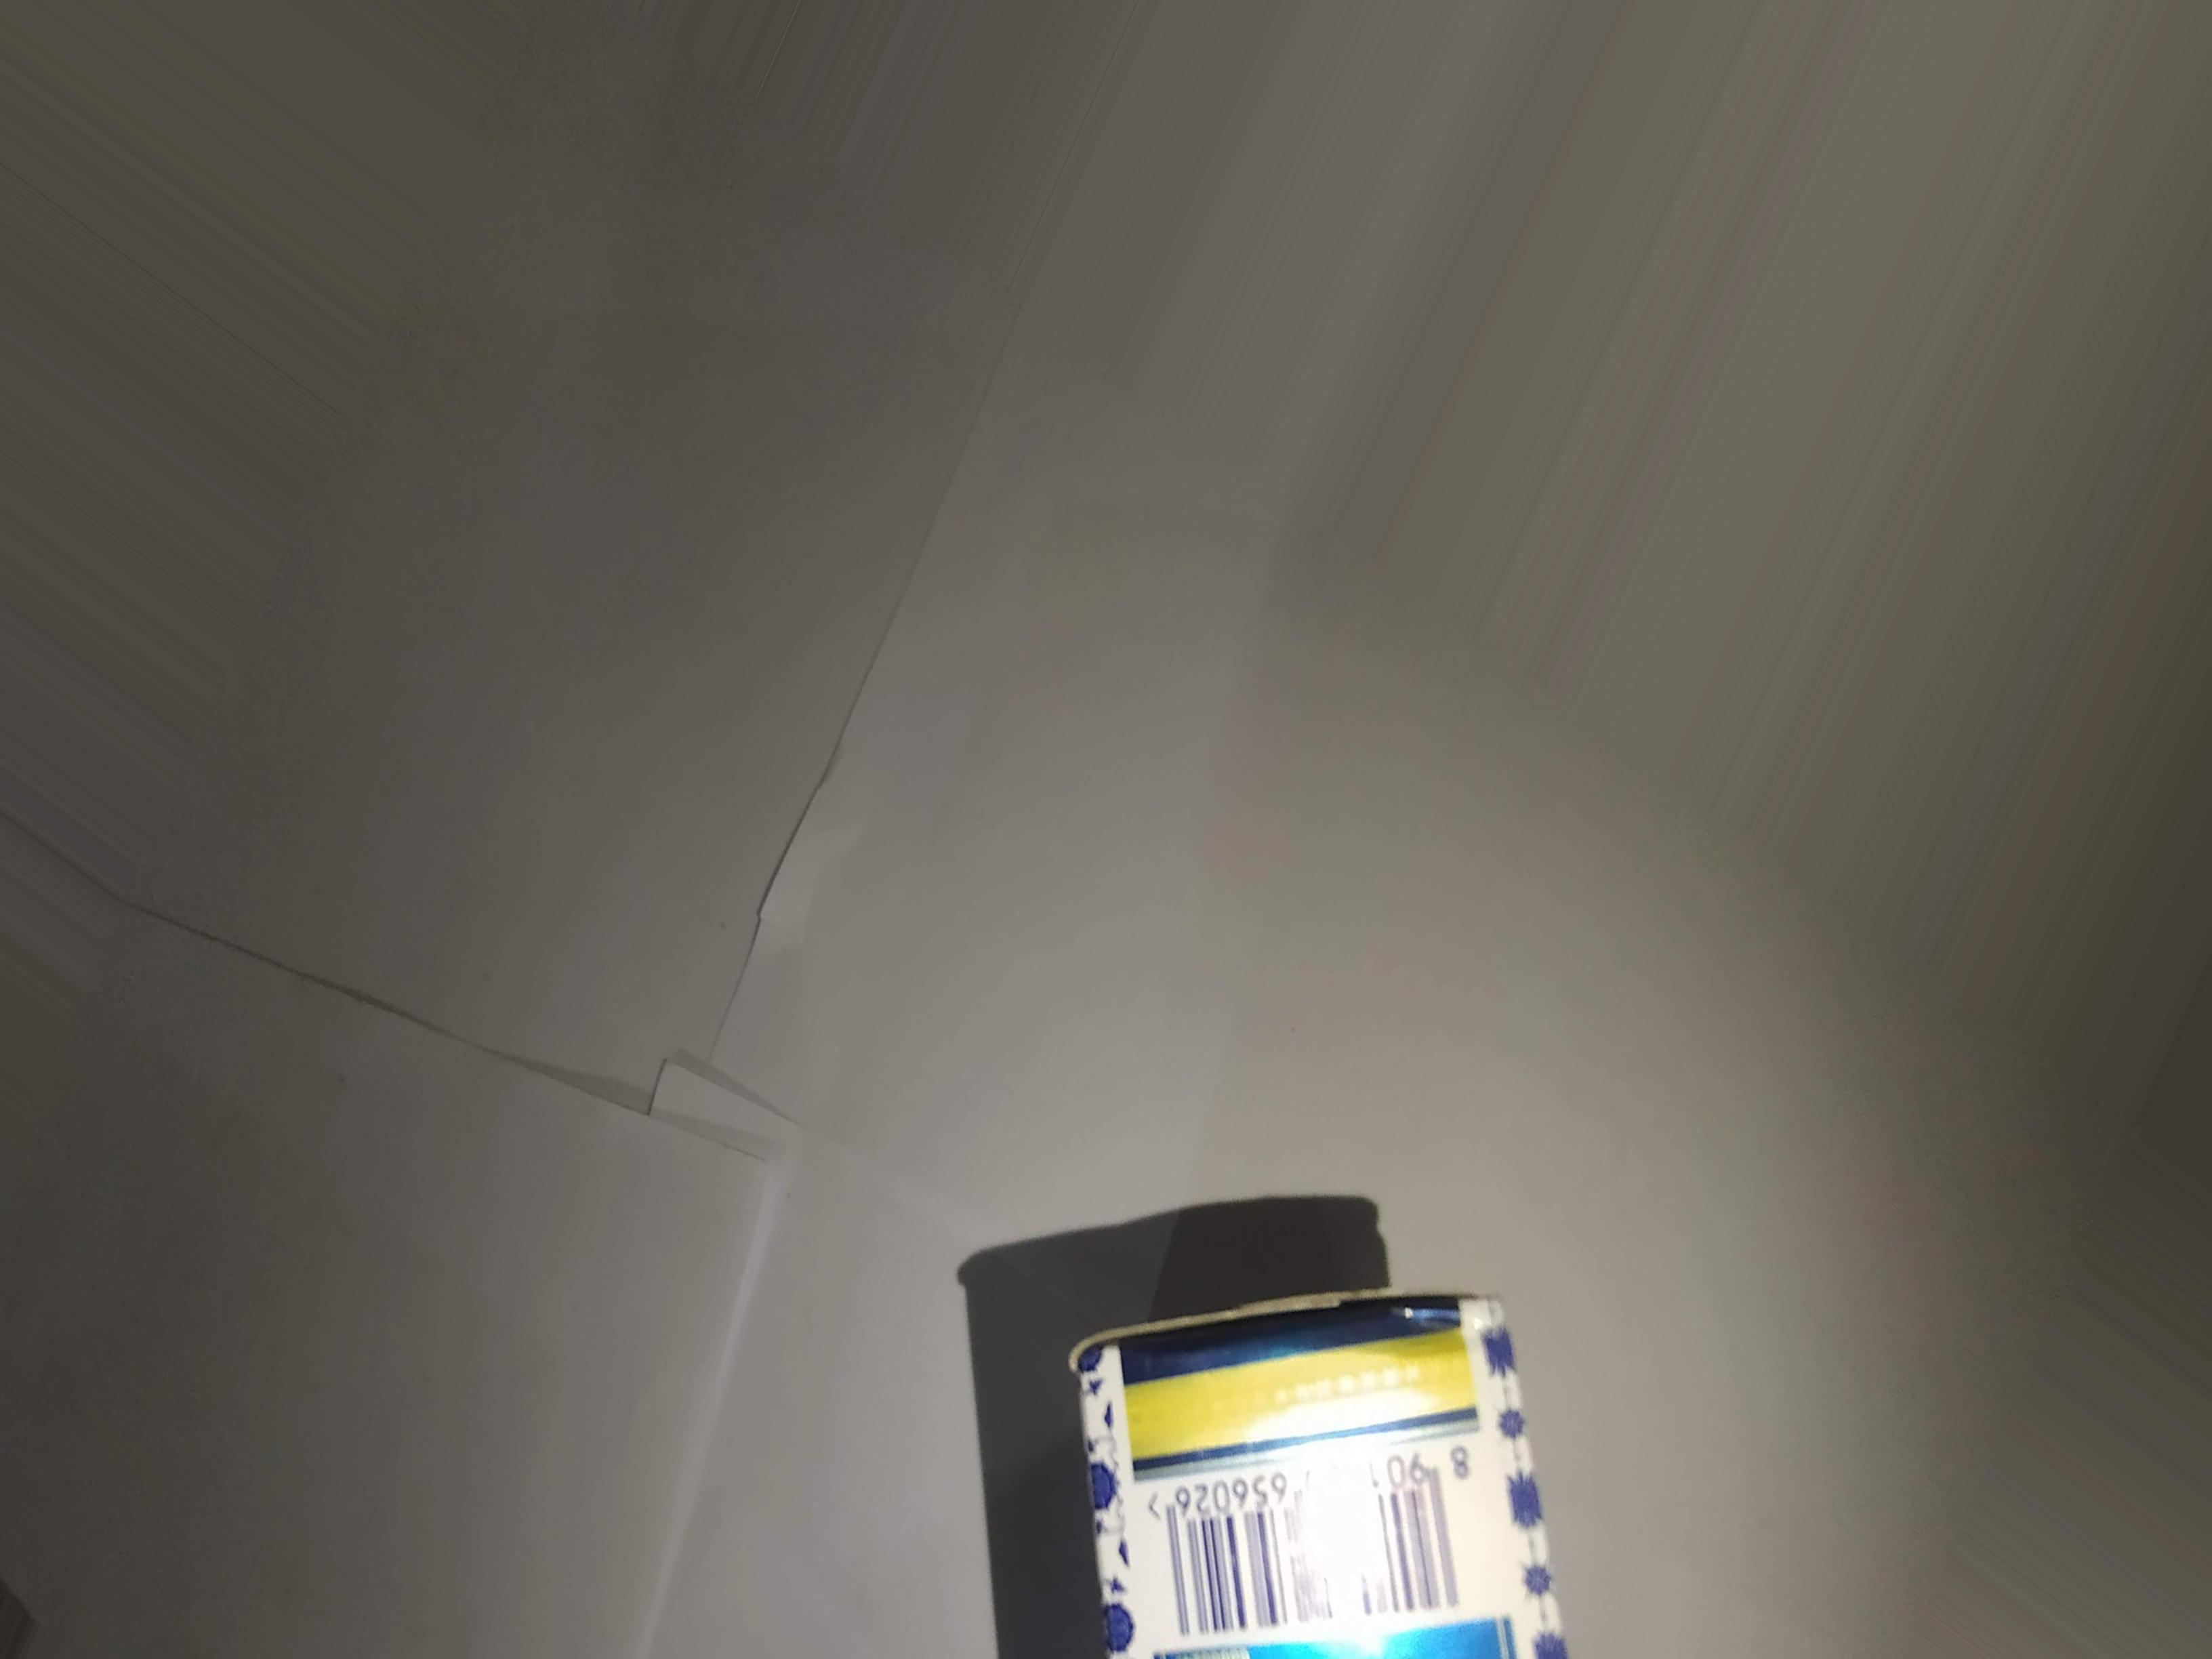Bar_code: (993, 1187, 1733, 1659), (1122, 1419, 1482, 1633)
